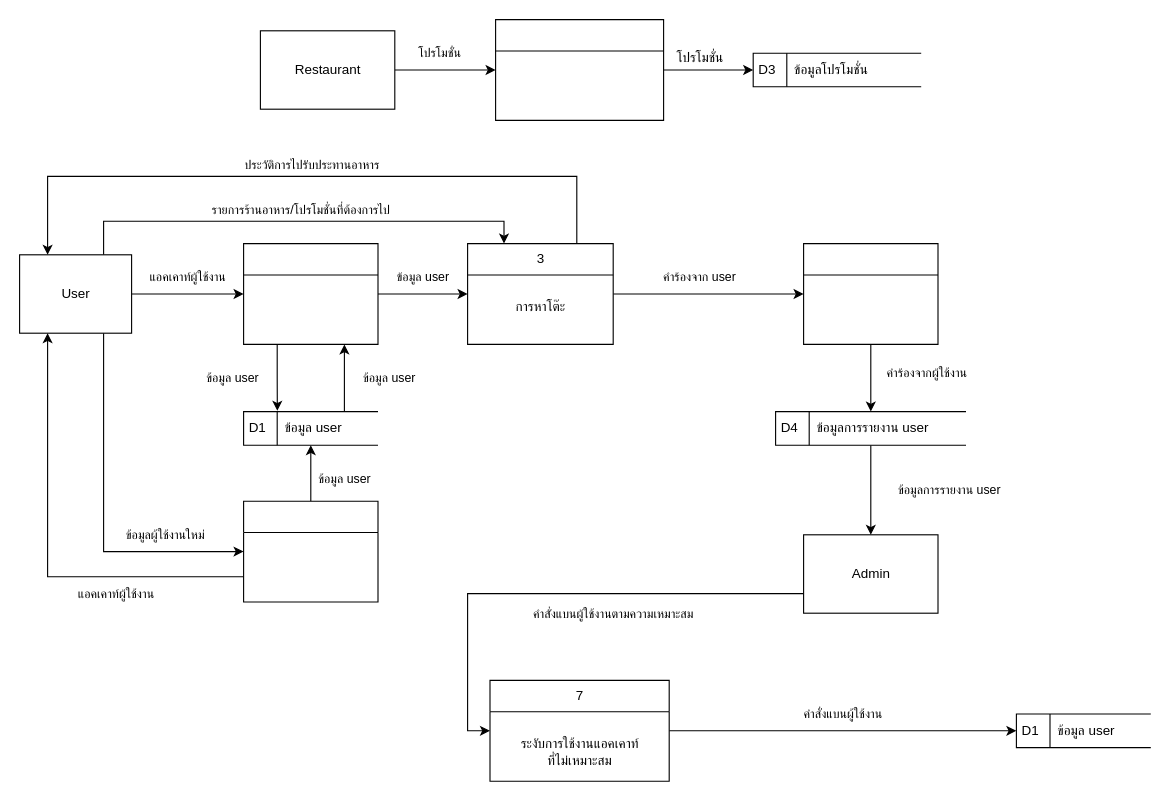
Image size: 1170x801. Some labels were removed from this diagram. The centre of each missing label's shape, as x and y in pixels:
"1 Login" goes at point 310,293.
"2 เพิ่มข้อมูล user ใหม่" goes at point 310,551.
"4 report" goes at point 870,293.
"5 ขอเพิ่มโปรโมชั่นและลบ" goes at point 579,69.
